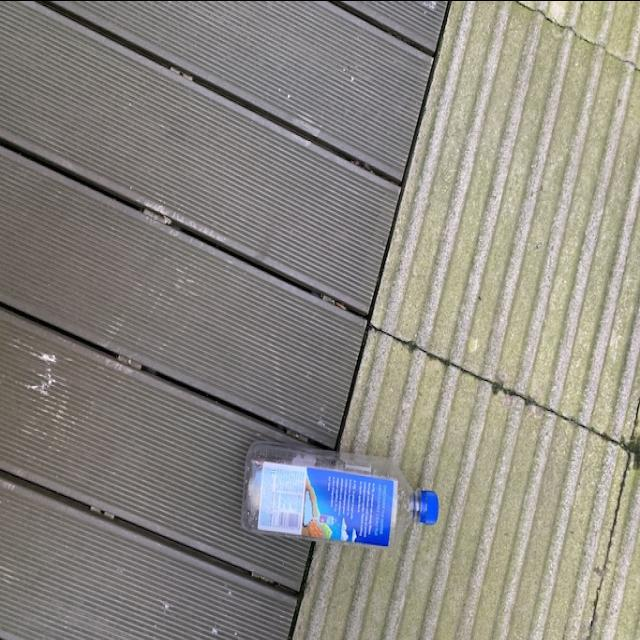PET: (241, 435, 441, 551)
